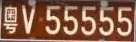V: (22, 0, 35, 34)
